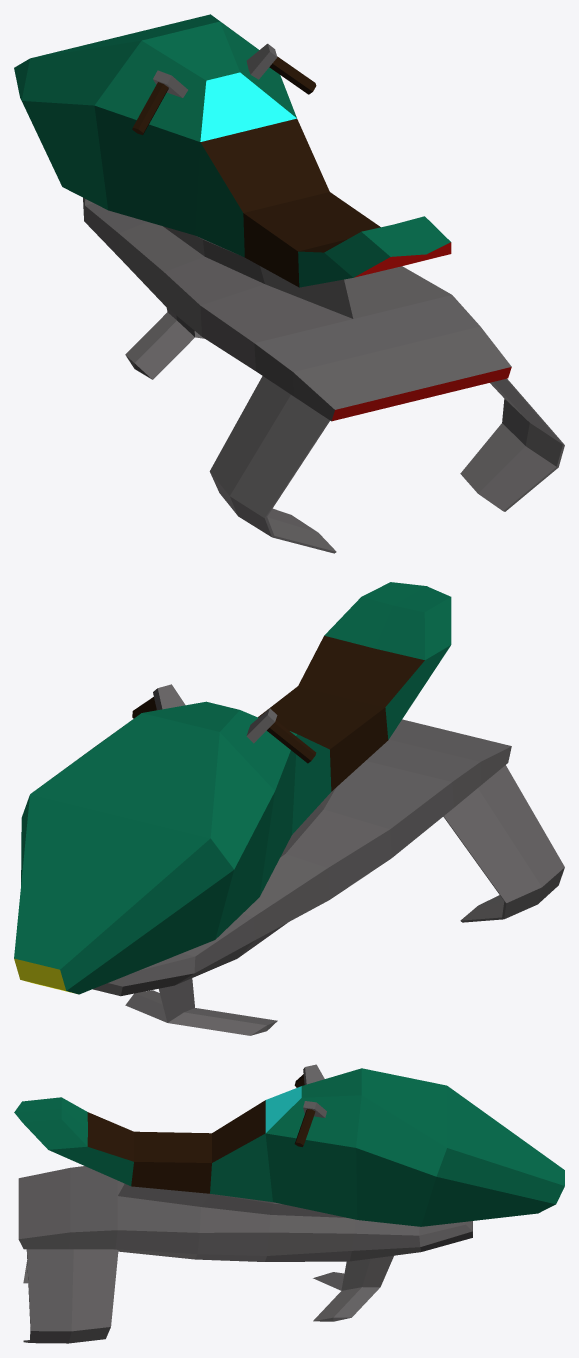
File: Jetski Dark green 1.fbx
3 renders of one model, top to bottom at view 1: azimuth 30°, elevation 25°; view 2: azimuth 150°, elevation 25°; view 3: azimuth 270°, elevation 25°, orthographic. The views are drawn at different scales.
Parts seen in each view (by area): view 1: body; view 2: body; view 3: body.
Part boxes in pixels (x1=…): body: x1=14, y1=14, x2=564, y2=553; body: x1=14, y1=582, x2=564, y2=1035; body: x1=14, y1=1064, x2=564, y2=1343.
Bounding box in the file's own units: 56.55 × 56.53 × 122.
